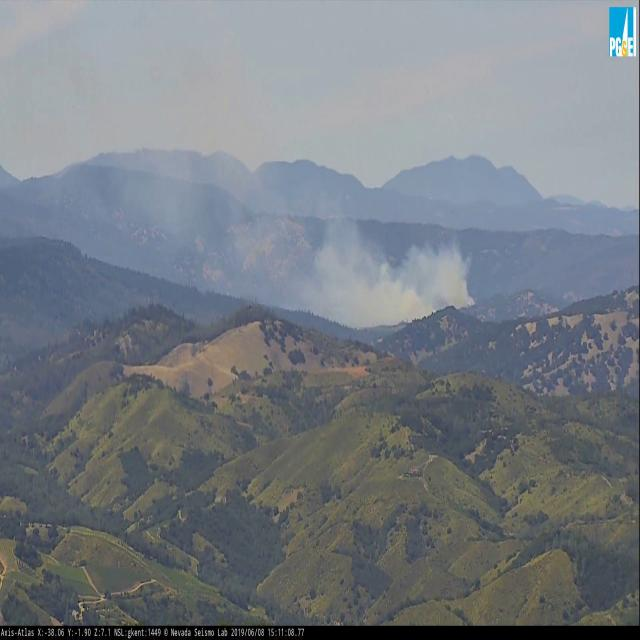smoke: (143, 108, 483, 333)
